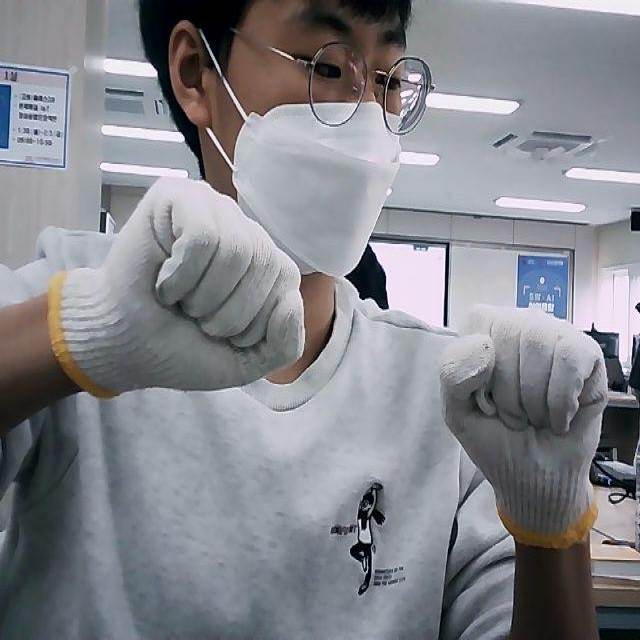gloves: (50, 178, 306, 402), (440, 307, 608, 547)
